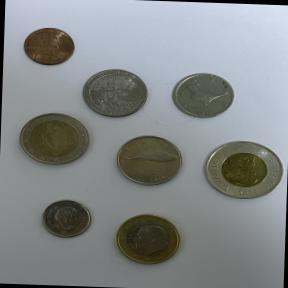coin: (196, 134, 288, 207), (107, 207, 192, 271), (108, 128, 191, 192), (12, 110, 94, 173), (76, 63, 152, 121), (16, 19, 85, 72), (36, 193, 98, 243)
